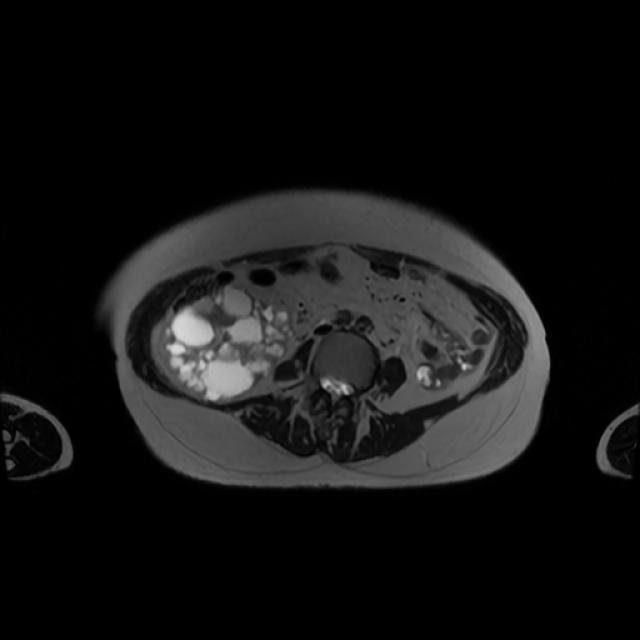sag: (160, 283, 292, 402)
